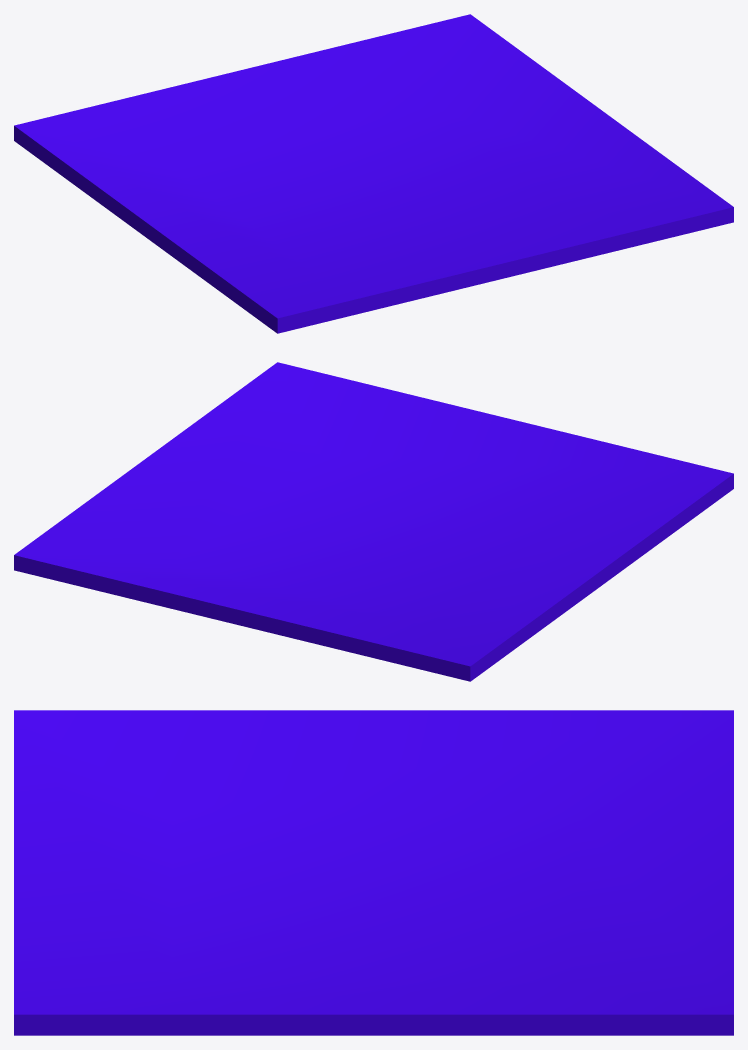
The model's file is House_Kitchen_Goodies_plate.FBX.
3 views of the same model, one above another, from view 1: azimuth 30°, elevation 25°; view 2: azimuth 150°, elevation 25°; view 3: azimuth 270°, elevation 25° (orthographic). The views are drawn at different scales.
Parts seen in each view (by area): view 1: House_Kitchen_Goodies_plate; view 2: House_Kitchen_Goodies_plate; view 3: House_Kitchen_Goodies_plate.
Part boxes in pixels (x1,y1,x2,y2): House_Kitchen_Goodies_plate: [14, 14, 733, 333]; House_Kitchen_Goodies_plate: [14, 362, 733, 681]; House_Kitchen_Goodies_plate: [14, 710, 733, 1035].
Bounding box in the file's own units: 74.36 × 6.36 × 74.36.
